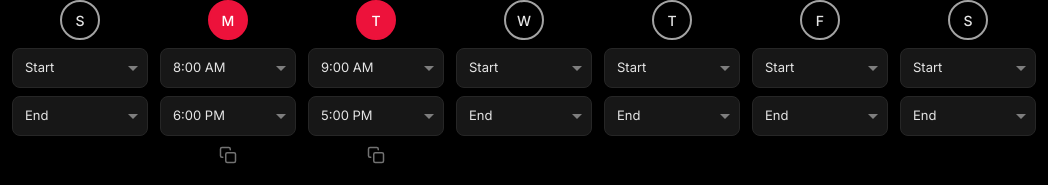
WeeklySchedule › Copy / Paste › enters copy mode when copy is clicked and shows paste buttons on other days
Click the button with test id "copy-btn-1".
click(228, 155)  # box [217,144,239,166]
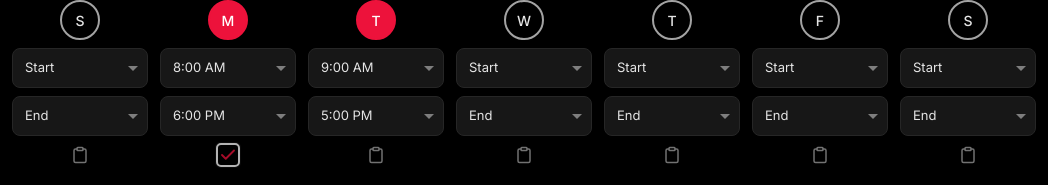
Now the button with test id "copy-active-1" is shown, box [217,144,239,166]
Now the button with test id "paste-btn-0" is shown, box [69,144,91,166]
Now the button with test id "paste-btn-2" is shown, box [365,144,387,166]
